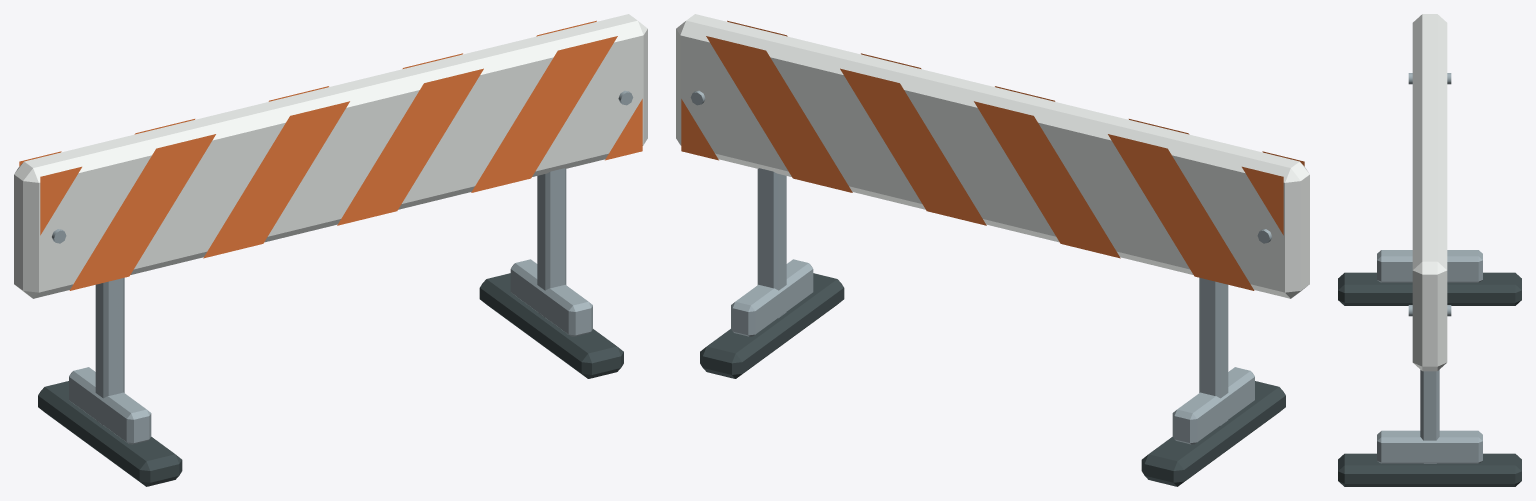
The model's file is roadblock.glb.
3 renders of one model, left to right at view 1: azimuth 30°, elevation 25°; view 2: azimuth 150°, elevation 25°; view 3: azimuth 270°, elevation 25°, orthographic. The views are drawn at different scales.
Parts seen in each view (by area): view 1: Static_Reflective ivory, Static_Safety coral, Static_Galvanized stand, Static_Rubber feet; view 2: Static_Reflective ivory, Static_Safety coral, Static_Galvanized stand, Static_Rubber feet; view 3: Static_Reflective ivory, Static_Rubber feet, Static_Galvanized stand.
Part boxes in pixels (x1,y1,x2,y2): Static_Reflective ivory: (14,14,647,298); Static_Safety coral: (19,20,642,290); Static_Galvanized stand: (52,90,633,444); Static_Rubber feet: (38,273,623,486); Static_Reflective ivory: (676,14,1309,298); Static_Safety coral: (681,20,1304,290); Static_Galvanized stand: (690,90,1271,444); Static_Rubber feet: (700,273,1285,486); Static_Reflective ivory: (1412,14,1447,371); Static_Rubber feet: (1338,272,1521,486); Static_Galvanized stand: (1377,73,1482,463).
Bounding box in the file's own units: 2.8 × 1.29 × 0.85.
